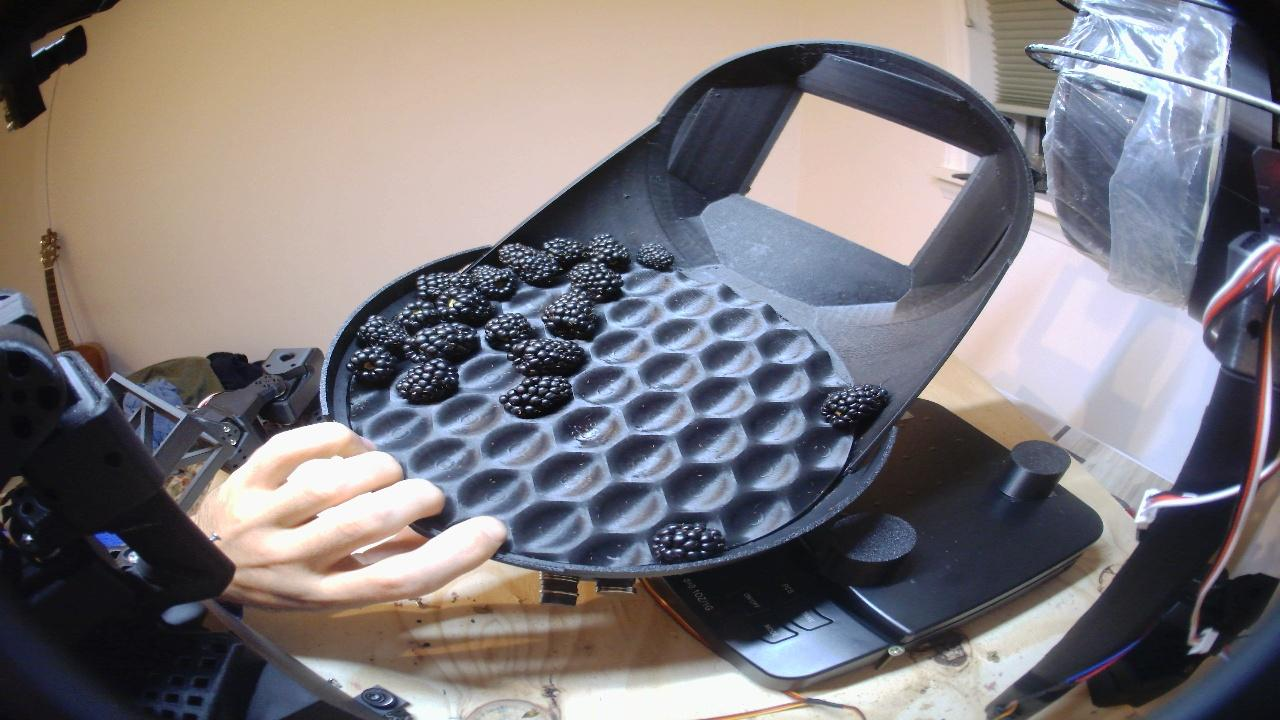berry: (820, 384, 889, 431), (500, 376, 572, 418), (651, 522, 726, 562), (508, 338, 587, 375), (406, 322, 477, 363), (395, 358, 458, 403), (541, 289, 596, 338), (499, 243, 561, 284), (435, 288, 496, 325), (346, 345, 398, 386), (357, 315, 408, 356), (570, 262, 621, 300), (485, 313, 534, 349), (468, 265, 518, 299), (396, 300, 440, 335), (587, 234, 629, 269), (417, 272, 473, 298), (544, 238, 585, 266), (636, 243, 674, 270)
